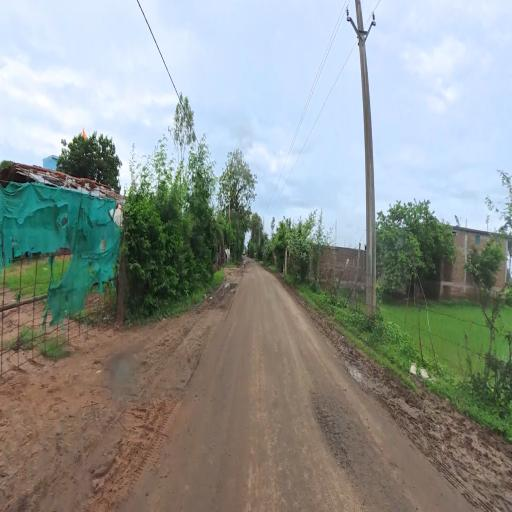alligator_crack: (300, 372, 376, 504)
